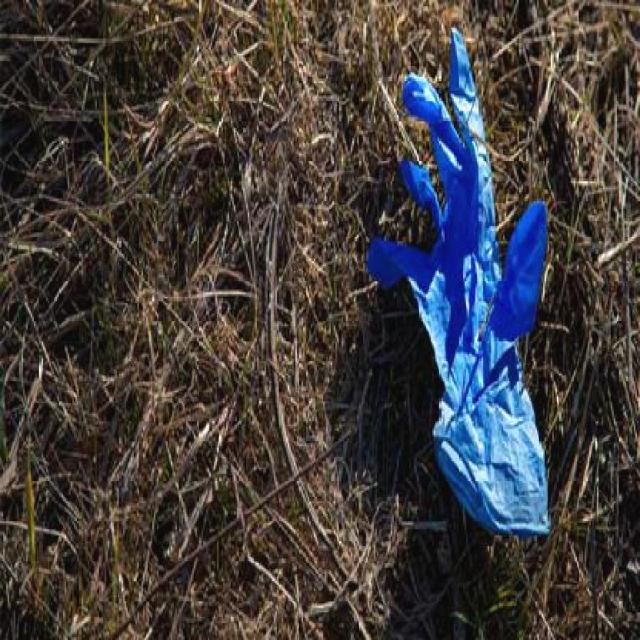glove: (362, 22, 550, 542)
